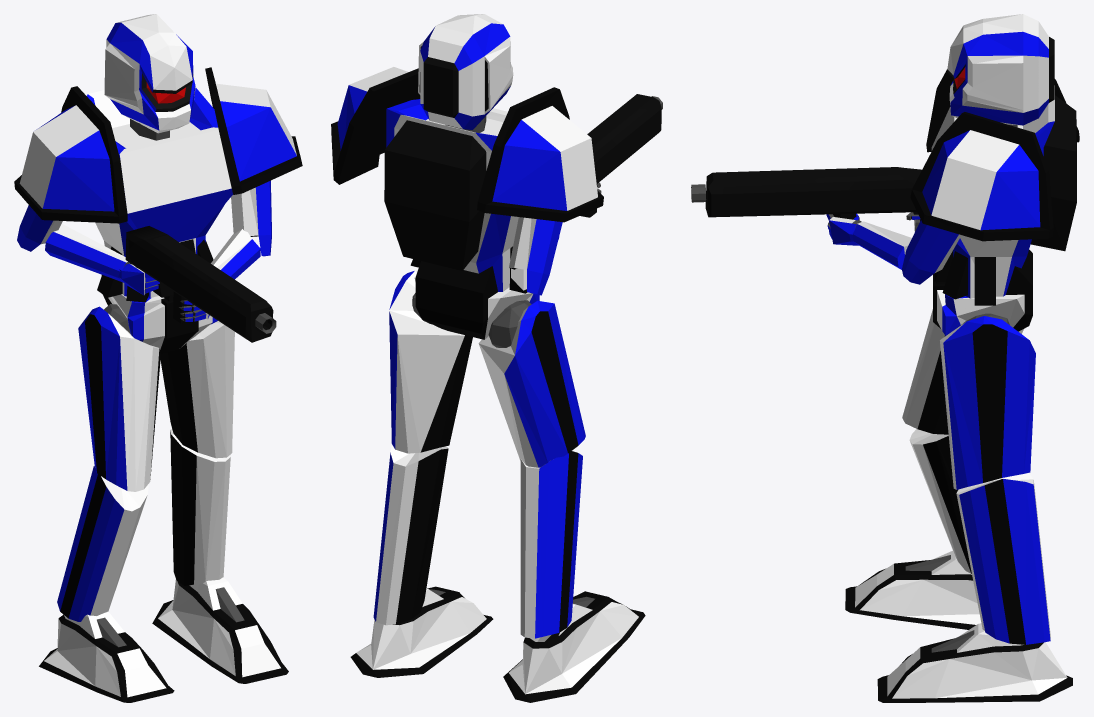
Rendered from robot_animation_000015.obj.
The picture shows the model from 3 angles, left to right: view 1: azimuth 30°, elevation 25°; view 2: azimuth 150°, elevation 25°; view 3: azimuth 270°, elevation 25°; orthographic projection. The views are drawn at different scales.
Visible parts, largest first — view 1: Chest_plate_Cube.004, R_Thigh_Cube.005, Cube.002_Cube.059, Head_base_Cube.022, R_Foot.002_Cube.035, R_Thigh.002_Cube.027, R_Shin_Cube.007, Cube_Cube.001, R_Shin.002_Cube.029, R_Foot_Cube, Cube_Cube.021, Pelvis_Cube.006 (+5 smaller); view 2: Chest_plate_Cube.004, Cube.002_Cube.059, R_Thigh_Cube.005, R_Shin_Cube.007, R_Thigh.002_Cube.027, R_Shin.002_Cube.029, Head_base_Cube.022, R_Foot_Cube, R_Foot.002_Cube.035, Cube_Cube.021, Pelvis_Cube.006, Cube_Cube.001 (+2 smaller); view 3: Cube_Cube.021, R_Thigh.002_Cube.027, R_Shin.002_Cube.029, R_Foot.002_Cube.035, Head_base_Cube.022, Cube_Cube.001, Chest_plate_Cube.004, R_Foot_Cube, Pelvis_Cube.006, R_Shin_Cube.007, R_Thigh_Cube.005, L_Arm_Cube.014 (+3 smaller).
Part boxes in pixels (x1,y1,x2,y2): Chest_plate_Cube.004: [87, 88, 232, 302]; R_Thigh_Cube.005: [78, 306, 160, 491]; Cube.002_Cube.059: [14, 86, 127, 223]; Head_base_Cube.022: [104, 14, 195, 133]; R_Foot.002_Cube.035: [152, 577, 288, 683]; R_Thigh.002_Cube.027: [160, 321, 234, 458]; R_Shin_Cube.007: [57, 466, 148, 621]; Cube_Cube.001: [125, 226, 276, 342]; R_Shin.002_Cube.029: [170, 429, 230, 585]; R_Foot_Cube: [39, 611, 174, 702]; Cube_Cube.021: [205, 67, 302, 194]; Pelvis_Cube.006: [101, 275, 217, 353]; Chest_plate_Cube.004: [384, 99, 527, 293]; Cube.002_Cube.059: [477, 87, 603, 222]; R_Thigh_Cube.005: [478, 300, 585, 467]; R_Shin_Cube.007: [520, 451, 582, 638]; R_Thigh.002_Cube.027: [389, 270, 472, 453]; R_Shin.002_Cube.029: [373, 444, 448, 625]; Head_base_Cube.022: [418, 14, 513, 129]; R_Foot_Cube: [503, 591, 645, 702]; R_Foot.002_Cube.035: [350, 586, 493, 677]; Cube_Cube.021: [331, 67, 420, 184]; Pelvis_Cube.006: [414, 261, 539, 339]; Cube_Cube.001: [580, 94, 662, 217]; Cube_Cube.021: [910, 112, 1053, 241]; R_Thigh.002_Cube.027: [940, 316, 1035, 489]; R_Shin.002_Cube.029: [956, 473, 1050, 644]; R_Foot.002_Cube.035: [877, 623, 1072, 702]; Head_base_Cube.022: [947, 14, 1054, 125]; Cube_Cube.001: [691, 167, 921, 221]; Chest_plate_Cube.004: [931, 85, 1076, 305]; R_Foot_Cube: [845, 550, 981, 629]; Pelvis_Cube.006: [933, 249, 1032, 335]; R_Shin_Cube.007: [909, 429, 971, 573]; R_Thigh_Cube.005: [902, 309, 1023, 434]; L_Arm_Cube.014: [902, 220, 961, 284].
Size of the model in its own units: 1.32 by 3.05 by 1.68.
